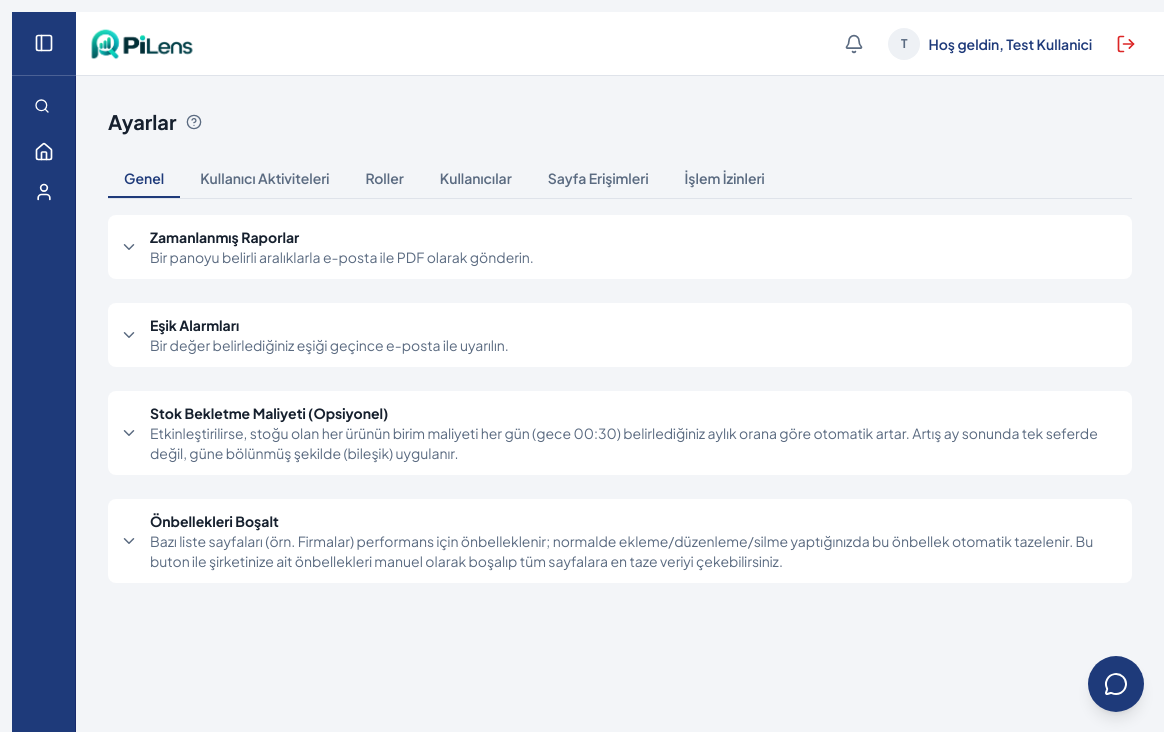
Test: SettingsPage › stok guncellemesinde onceki ve yeni miktari birlikte gosterir
Click the tab "Kullanıcı Aktiviteleri" at (265, 179), box [184,160,345,198]
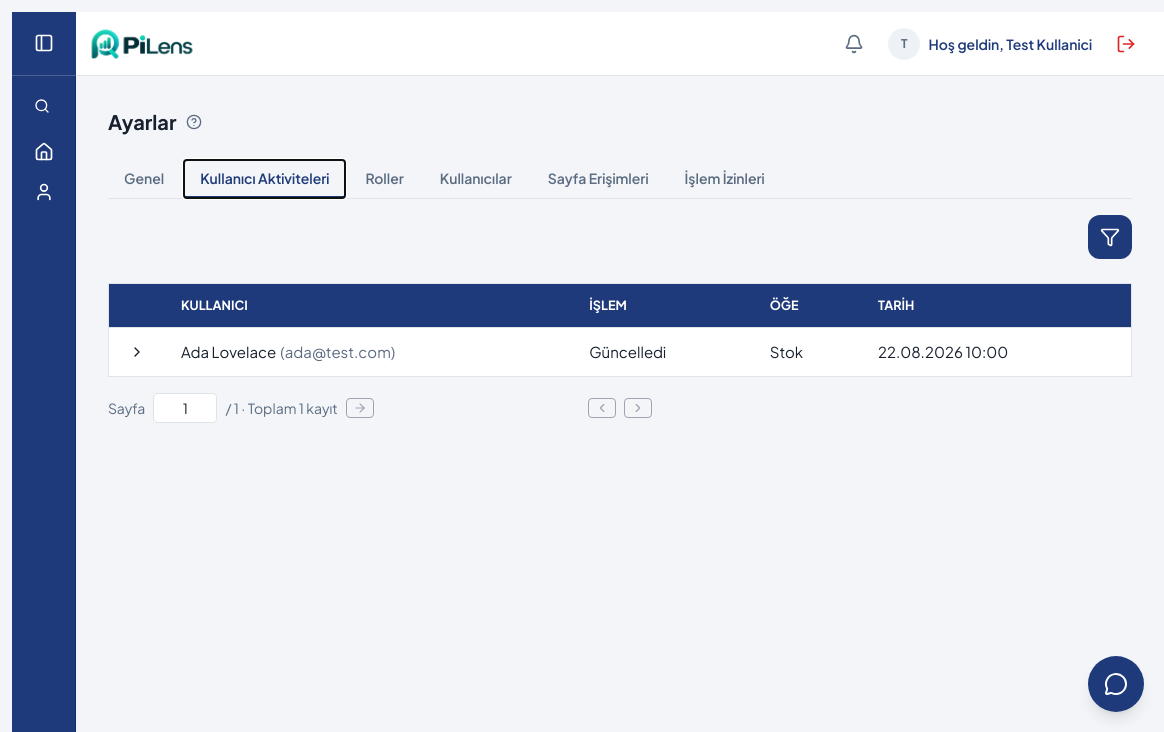
Click the button named "Detayları göster" at (137, 352), box [125,340,149,364]
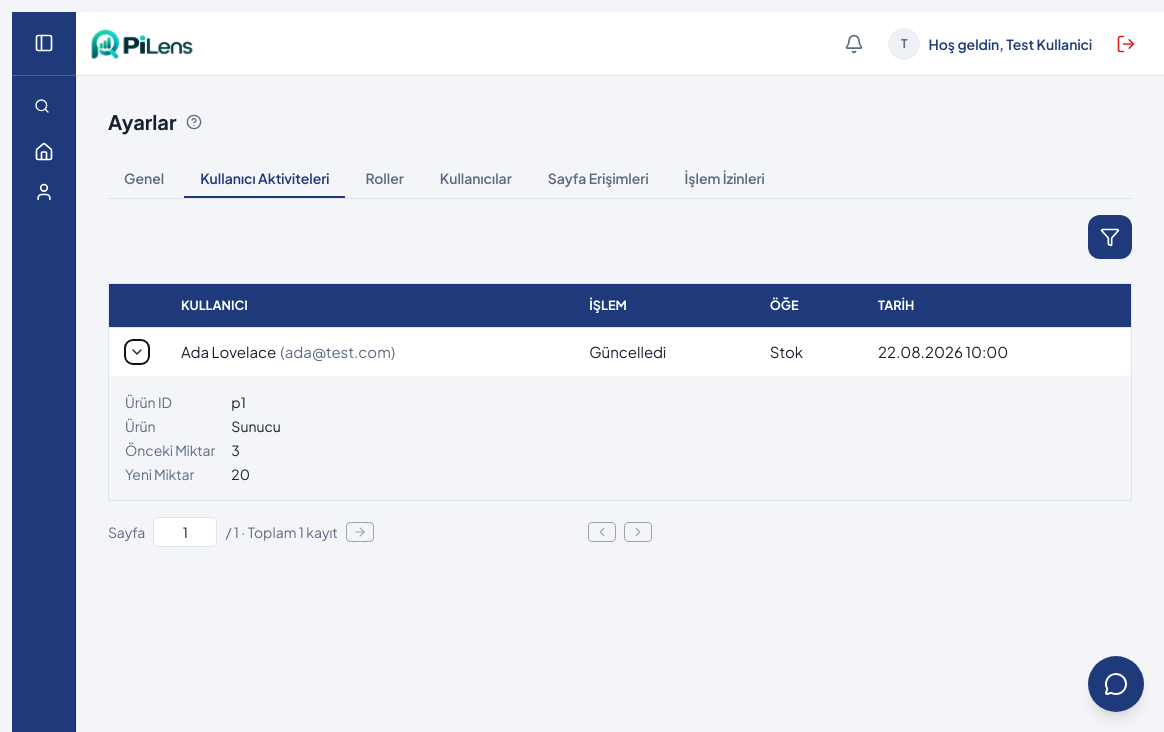
expect the text "Önceki Miktar" is shown: met, box [125,440,215,460]
expect the text "3" is shown: met, box [231,441,240,459]
expect the text "Yeni Miktar" is shown: met, box [125,465,194,483]
